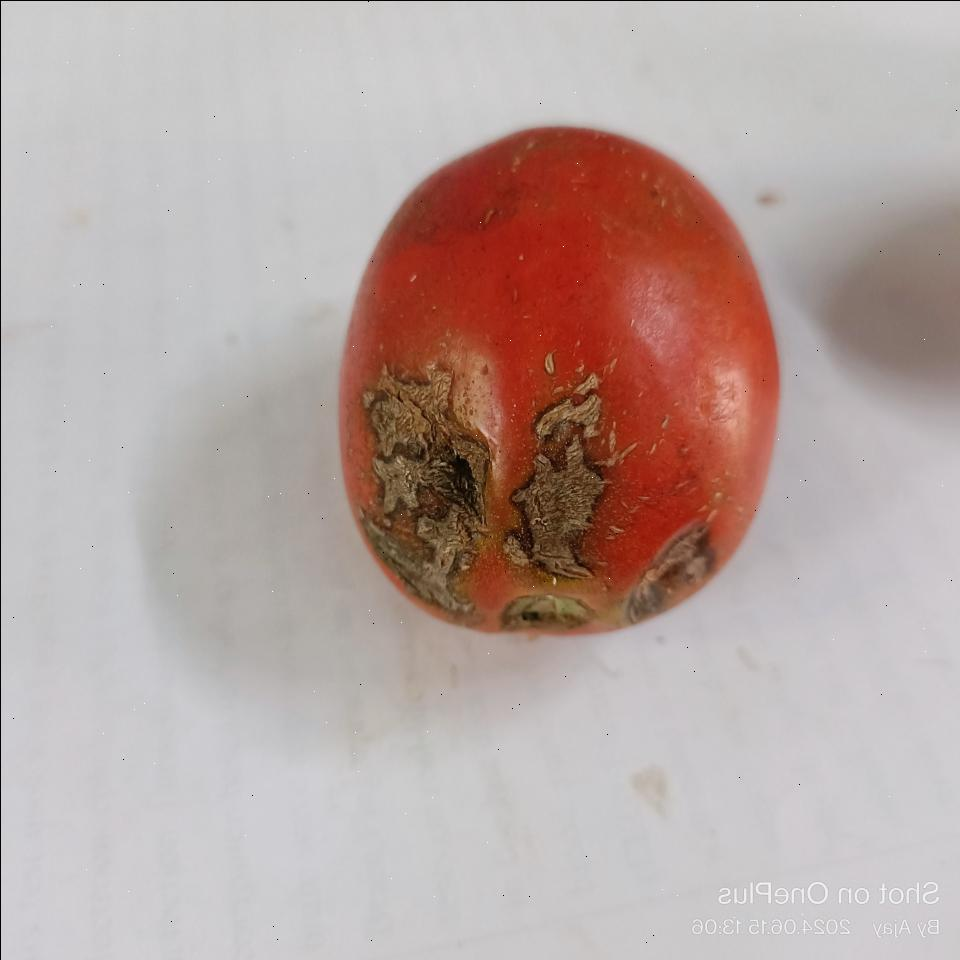Bacterial_Spot: (362, 345, 498, 601), (522, 366, 612, 574), (635, 518, 721, 622)
